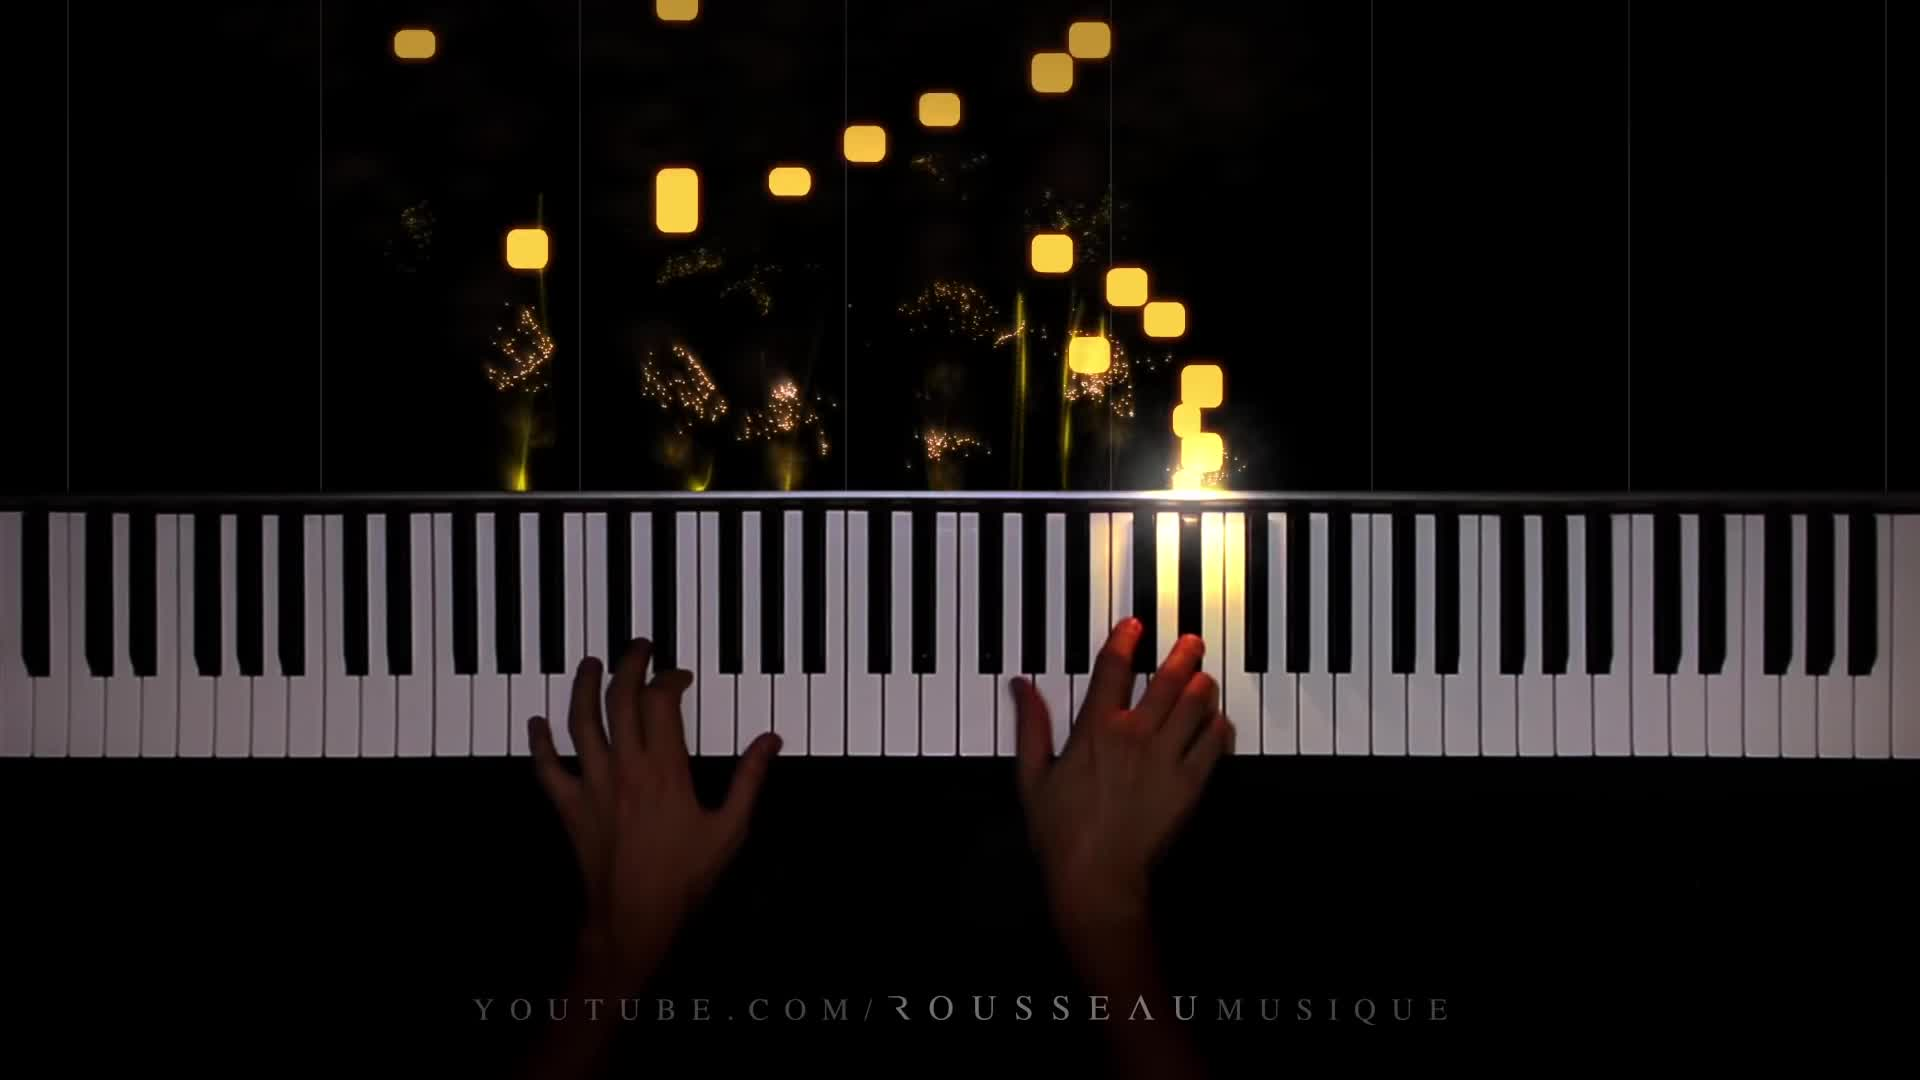left: (520, 634, 782, 894)
right: (1013, 613, 1234, 873)
